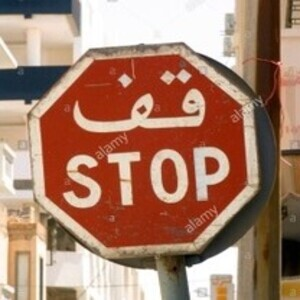stop: (28, 42, 263, 257)
